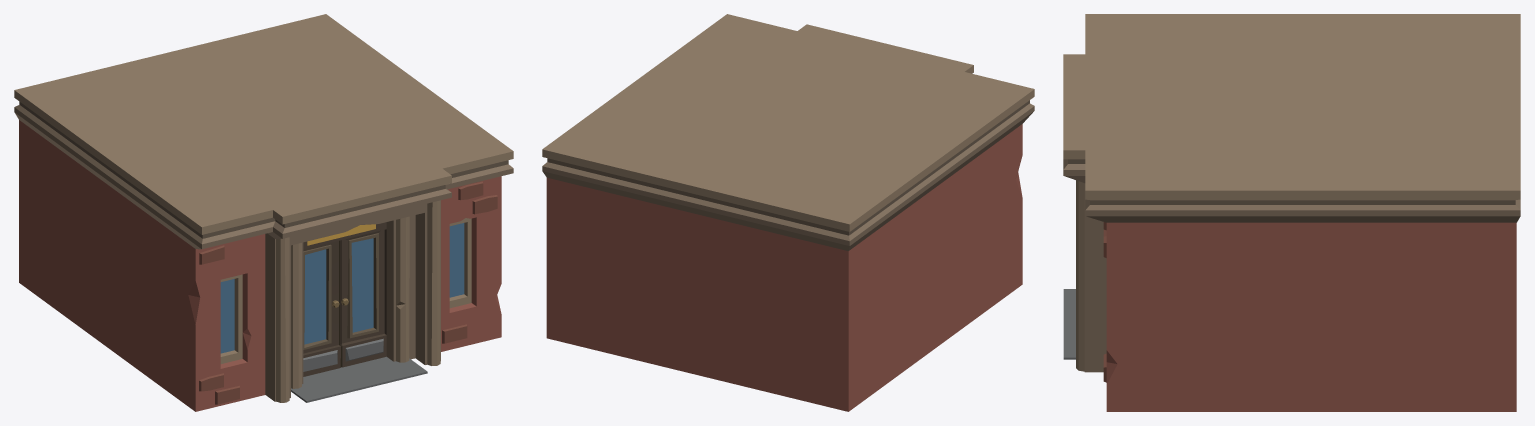
Rendered from SM_Bld_Apartment_Door_01.obj.
3 renders of one model, left to right at view 1: azimuth 30°, elevation 25°; view 2: azimuth 150°, elevation 25°; view 3: azimuth 270°, elevation 25°, orthographic. The views are drawn at different scales.
Visible parts, largest first — view 1: SM_Bld_Apartment_Door_01_0; view 2: SM_Bld_Apartment_Door_01_0; view 3: SM_Bld_Apartment_Door_01_0.
Part boxes in pixels (left/top/right/bottom): SM_Bld_Apartment_Door_01_0: left=14, top=14, right=513, bottom=411; SM_Bld_Apartment_Door_01_0: left=542, top=14, right=1034, bottom=411; SM_Bld_Apartment_Door_01_0: left=1063, top=14, right=1520, bottom=411.
Bounding box in the file's own units: 5.1 × 3 × 5.58.
1 material, 1 textured.
